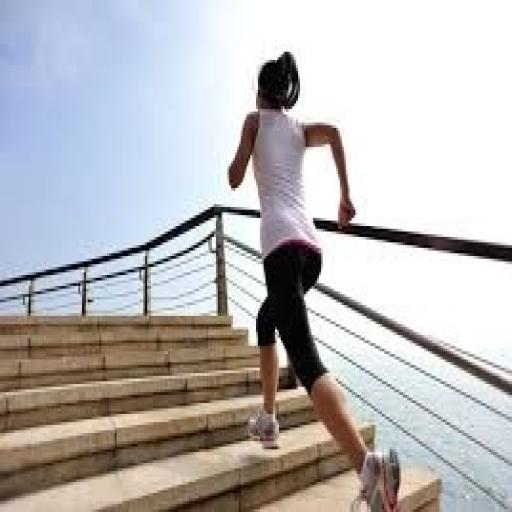running: (224, 46, 405, 510)
